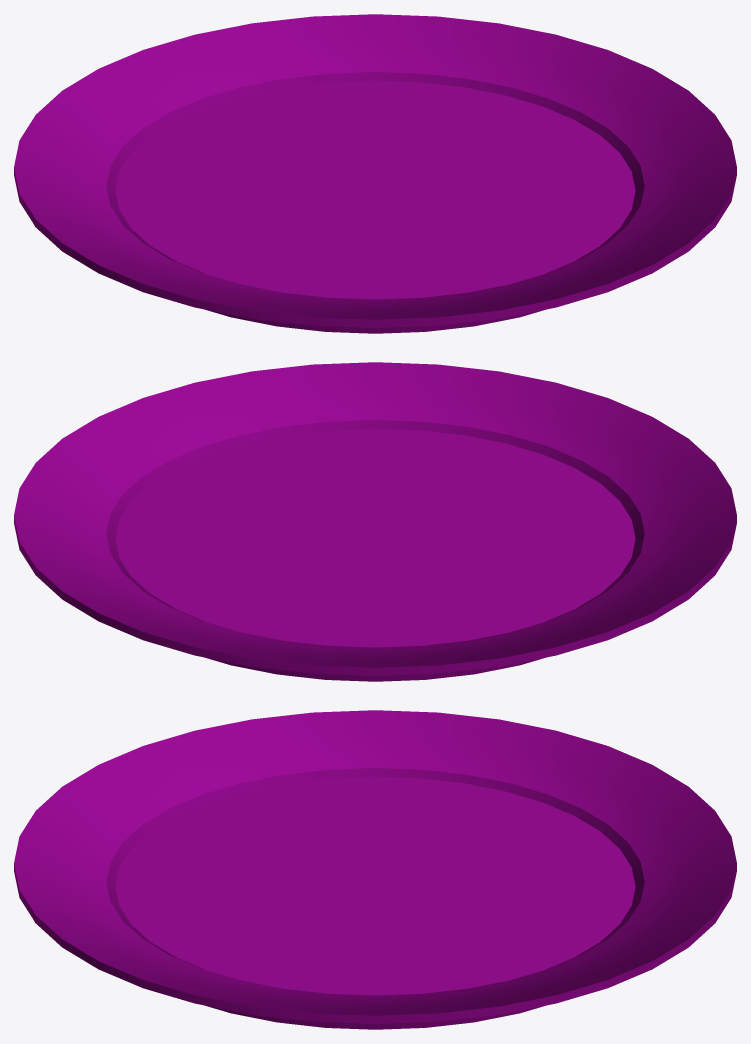
The model's file is Plate.FBX.
The picture shows the model from 3 angles, top to bottom: view 1: azimuth 30°, elevation 25°; view 2: azimuth 150°, elevation 25°; view 3: azimuth 270°, elevation 25°; orthographic projection.
Parts seen in each view (by area): view 1: PRP_Plate_HR_1; view 2: PRP_Plate_HR_1; view 3: PRP_Plate_HR_1.
Part boxes in pixels (<box>): PRP_Plate_HR_1: <box>14,14,736,333</box>; PRP_Plate_HR_1: <box>14,362,736,681</box>; PRP_Plate_HR_1: <box>14,710,736,1029</box>.
Size of the model in its own units: 62 by 4.24 by 61.99.
